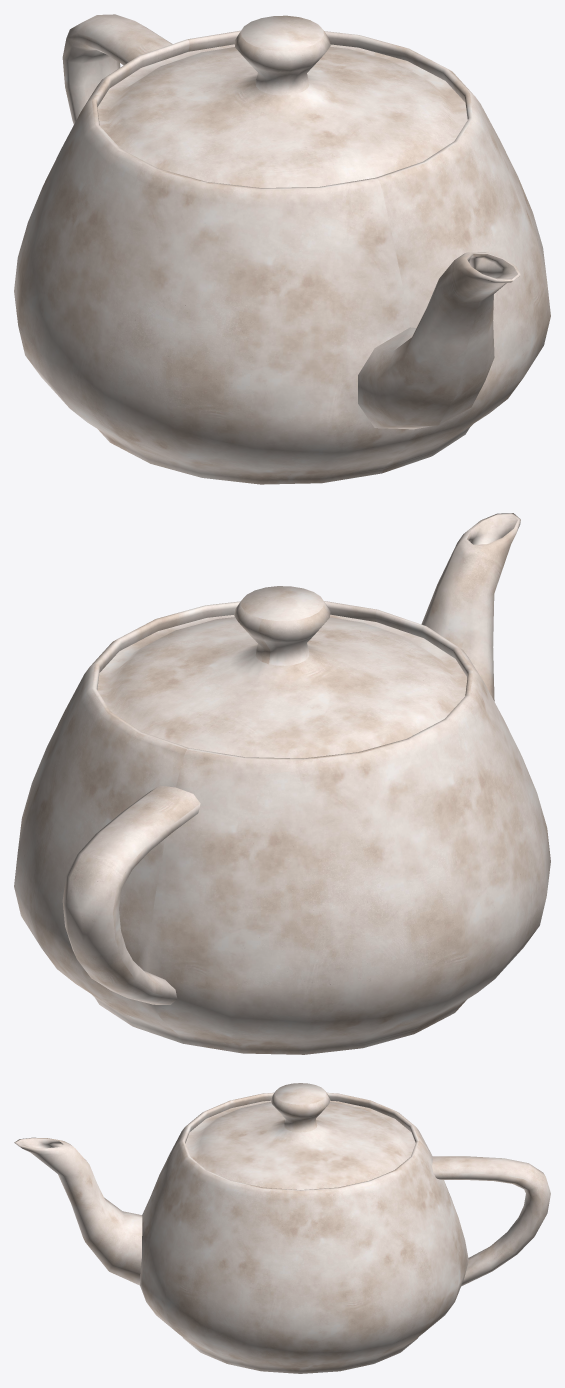
Rendered from UtahTeapot.glb.
3 views of the same model, one above another, from view 1: azimuth 30°, elevation 25°; view 2: azimuth 150°, elevation 25°; view 3: azimuth 270°, elevation 25° (orthographic). The views are drawn at different scales.
Parts seen in each view (by area): view 1: Teapot; view 2: Teapot; view 3: Teapot.
Boxes of the visible parts, box(x1,y1,x2,y2) form: Teapot: box(14, 14, 550, 484); Teapot: box(14, 513, 550, 1054); Teapot: box(14, 1083, 550, 1373).
Bounding box in the file's own units: 0.14 × 0.1103 × 0.2252.
1 material, 1 textured.
